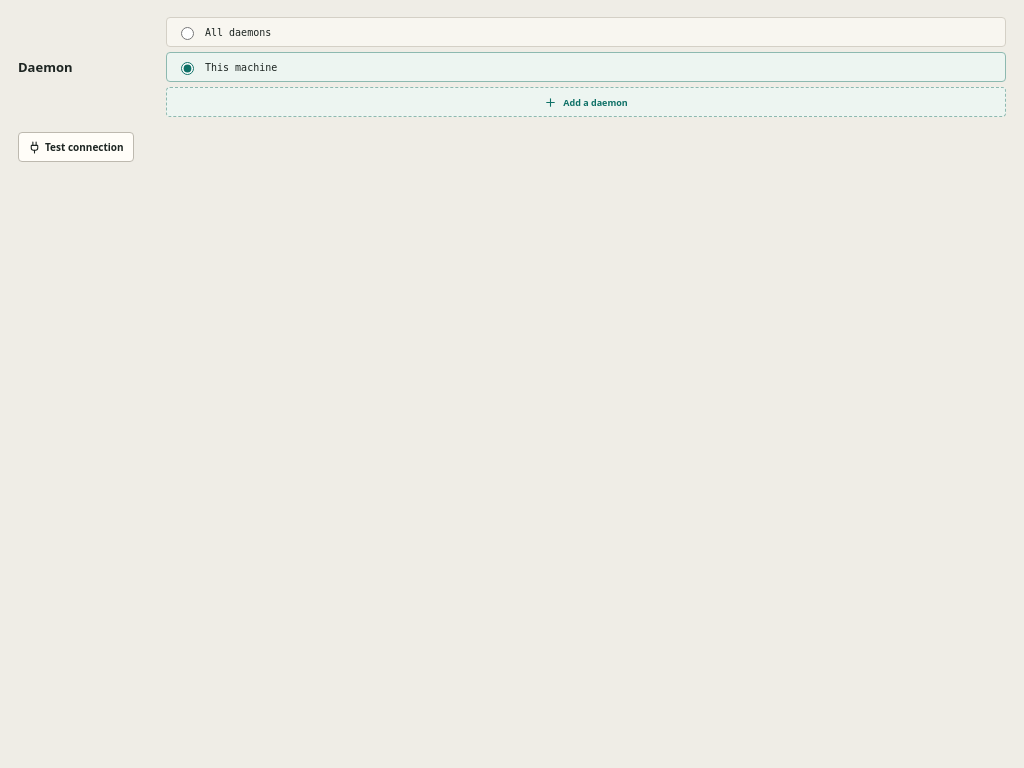
Scenario: EndpointsPanel › clears the added draft when save returns no outcome
Click the button with test id "add-deck" at (586, 102), box [166,87,1006,117]
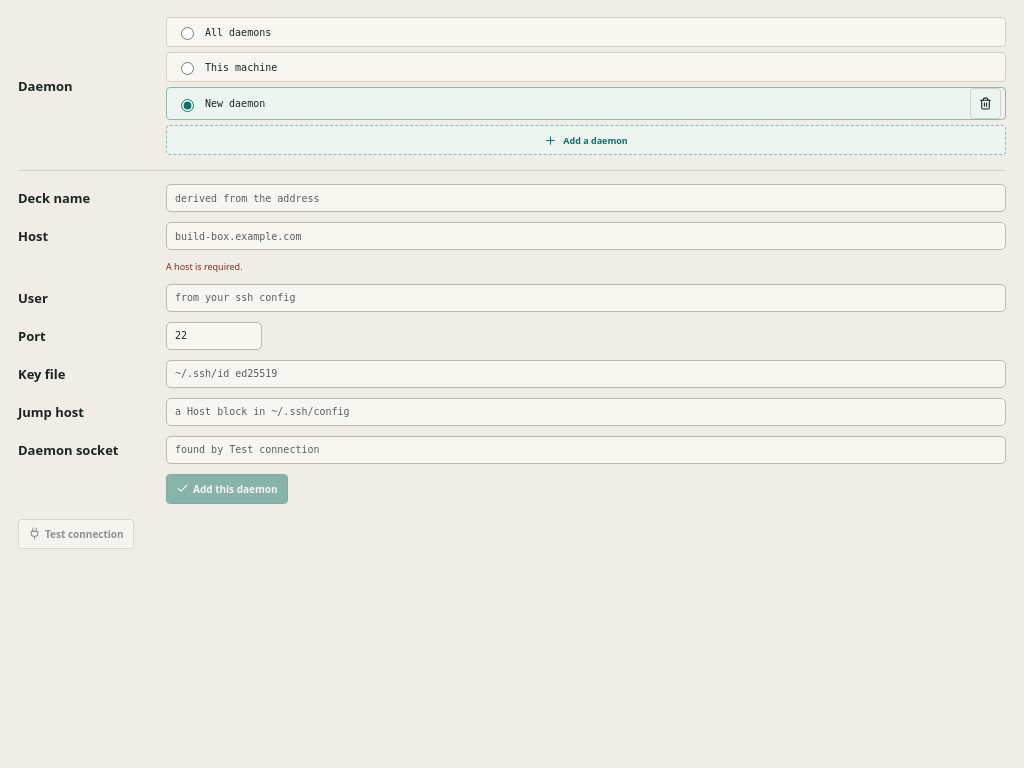
Type "build-box" into the field labelled "Host" at (586, 236), box [166,222,1006,250]
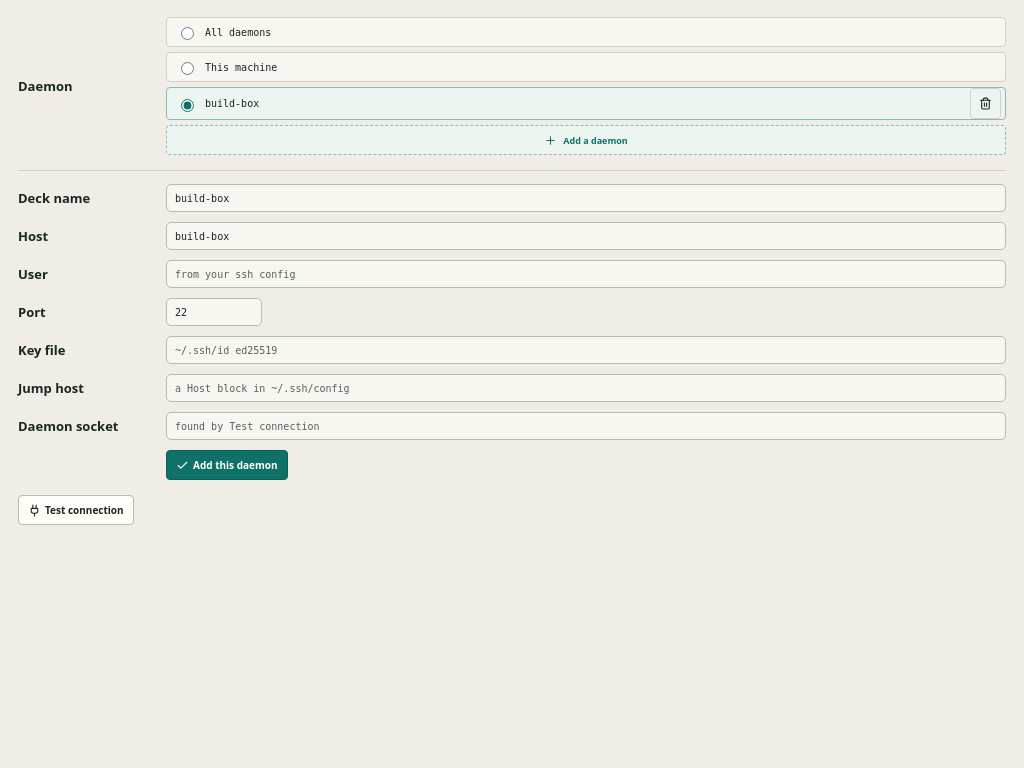
expect the field labelled "Deck name" holds "build-box": met, box [166,184,1006,212]
Click the button with test id "save-new-deck" at (227, 465), box [166,450,288,480]
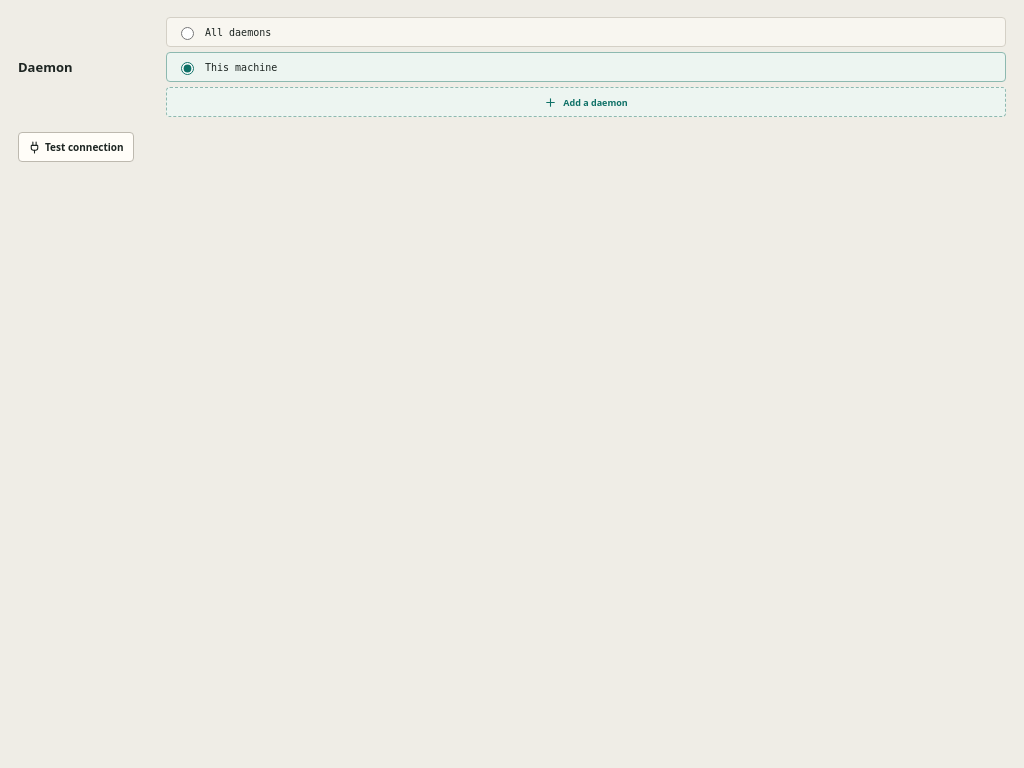
expect the button with test id "save-new-deck" is gone: met
